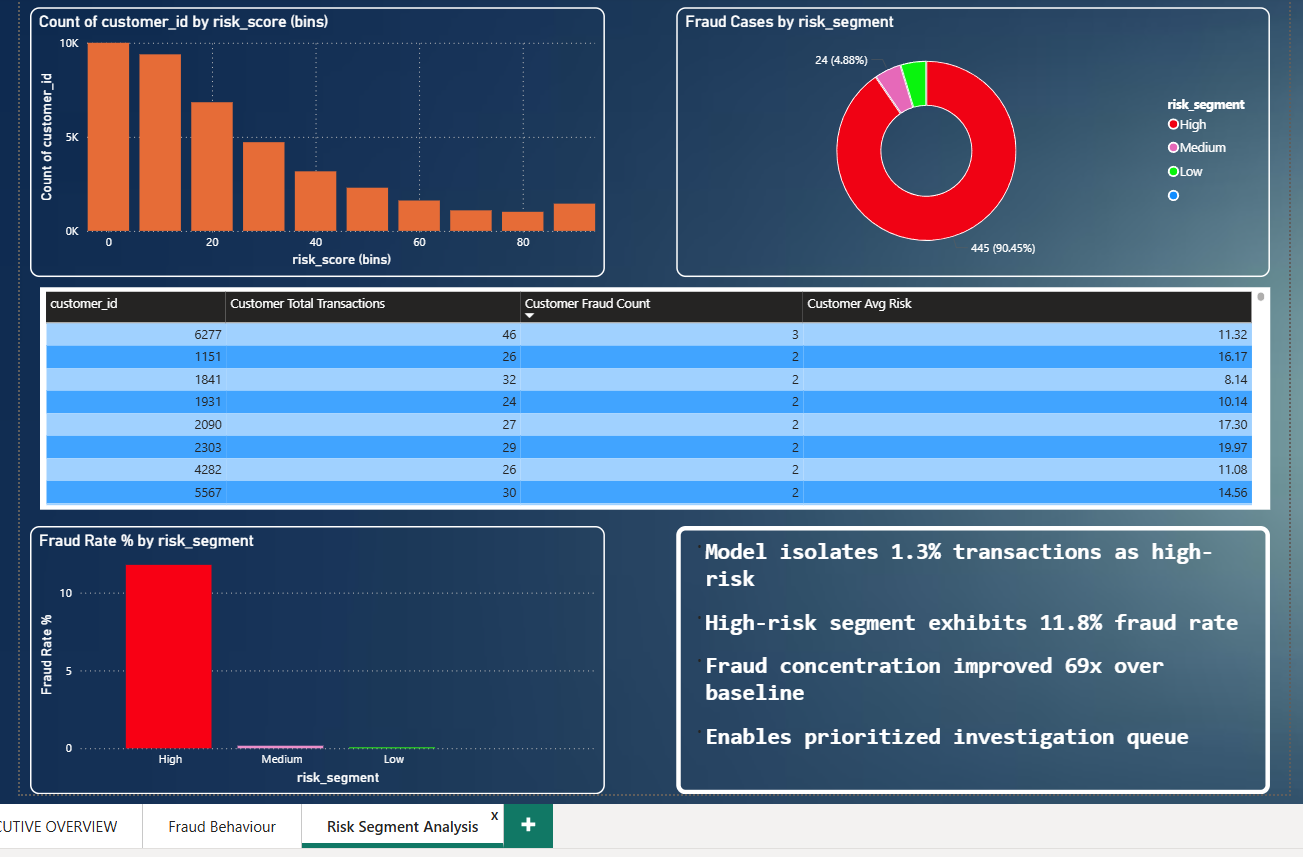

The dashboard page shown, as its layout file describes it:
{"tool":"powerbi","page":{"name":"Risk Segment Analysis","canvas":[1350,850],"ordinal":2},"visuals":[{"type":"columnChart","fields":{"Category":["transactions.risk_score (bins)"],"Y":["Count(transactions.customer_id)"]},"box":[10.1,11.5,612.1,287.3],"z":0},{"type":"columnChart","fields":{"Category":["transactions.risk_segment"],"Y":["transactions.Fraud Rate %"]},"box":[10.1,564.5,612.1,285.8],"z":1000},{"type":"donutChart","fields":{"Category":["transactions.risk_segment"],"Y":["transactions.Fraud Cases"]},"box":[698.7,11.5,632.3,287.3],"z":2000},{"type":"tableEx","fields":{"Values":["transactions.customer_id","transactions.Customer Total Transactions","transactions.Customer Fraud Count","transactions.Customer Avg Risk"]},"box":[21.7,310.4,1309.4,236.8],"z":3000},{"type":"textbox","box":[698.7,564.5,632.3,285.8],"z":4000}]}

Visuals, with their boxes in screenshot pixels (x1, y1, x2, y2):
columnChart - transactions.risk_score (bins) x Count(transactions.customer_id): [16,1,599,274]
columnChart - transactions.risk_segment x transactions.Fraud Rate %: [16,527,599,799]
donutChart - transactions.risk_segment x transactions.Fraud Cases: [672,1,1274,274]
tableEx - transactions.customer_id x transactions.Customer Total Transactions: [27,285,1274,511]
textbox: [672,527,1274,799]
